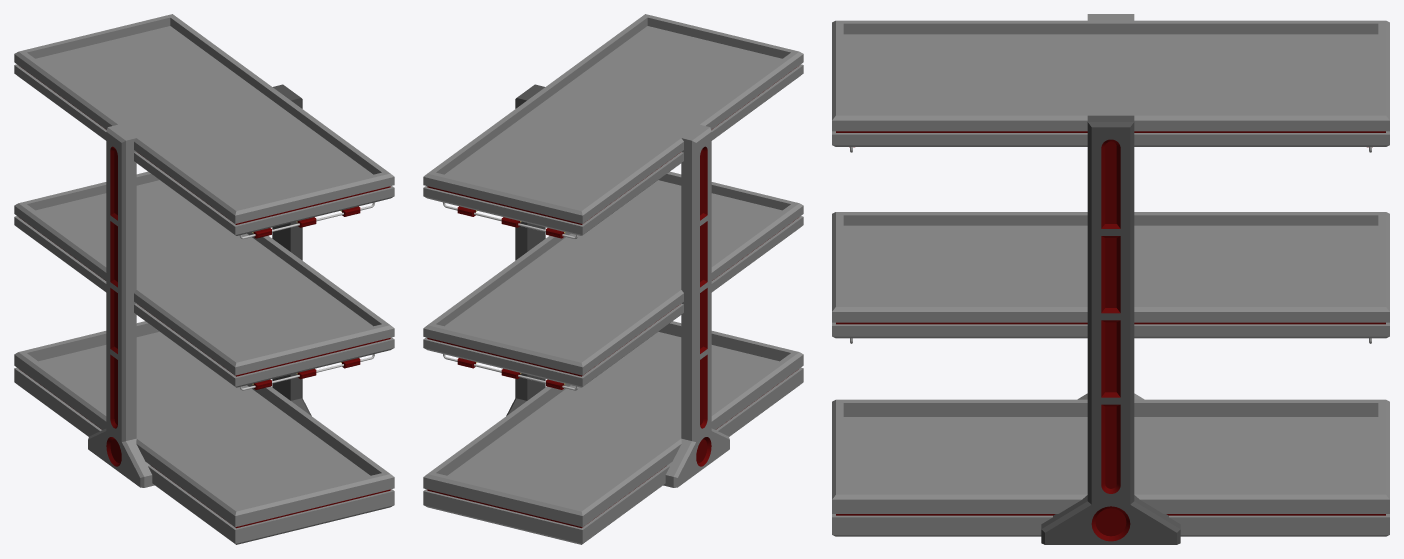
File: hydroponics bin.fbx
3 views of the same model, side by side, from view 1: azimuth 30°, elevation 25°; view 2: azimuth 150°, elevation 25°; view 3: azimuth 270°, elevation 25° (orthographic). The views are drawn at different scales.
Parts seen in each view (by area): view 1: Component_2_2, Component_1_1, Component_2_1, Component_3_2, Component_3_1; view 2: Component_2_2, Component_1_1, Component_2_1, Component_3_2, Component_3_1; view 3: Component_2_2, Component_1_1, Component_2_1, Component_3_1.
Part boxes in pixels (bbox=[...]): Component_2_2: bbox=[14, 14, 394, 235]; Component_1_1: bbox=[14, 321, 394, 544]; Component_2_1: bbox=[14, 171, 394, 387]; Component_3_2: bbox=[88, 124, 154, 487]; Component_3_1: bbox=[272, 84, 311, 415]; Component_2_2: bbox=[423, 14, 803, 235]; Component_1_1: bbox=[423, 321, 803, 544]; Component_2_1: bbox=[423, 171, 803, 387]; Component_3_2: bbox=[663, 124, 729, 487]; Component_3_1: bbox=[506, 84, 545, 415]; Component_2_2: bbox=[832, 20, 1389, 146]; Component_1_1: bbox=[832, 399, 1389, 536]; Component_2_1: bbox=[832, 212, 1389, 338]; Component_3_1: bbox=[1041, 115, 1180, 544].
Bounding box in the file's own units: 34 × 60 × 72.
